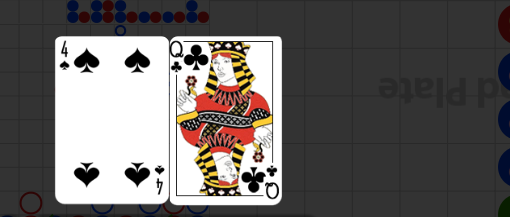4S: (153, 162, 166, 196)
QC: (171, 36, 215, 83), (238, 157, 282, 203)
